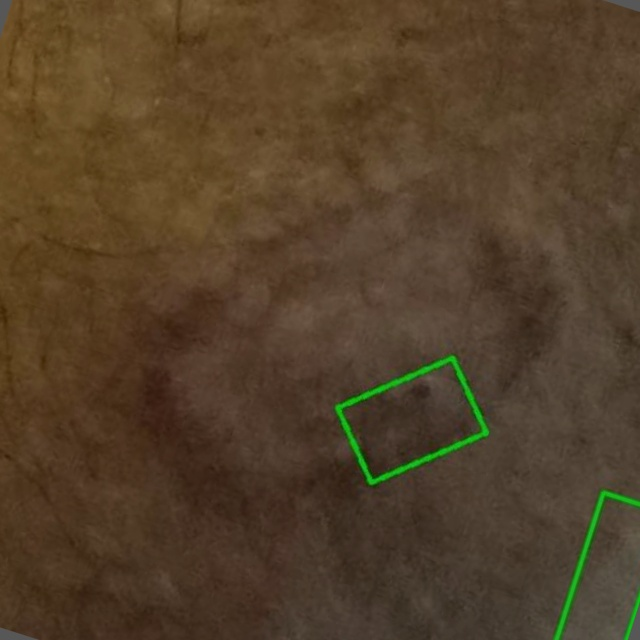Tinea Corporis: (338, 358, 486, 483)
